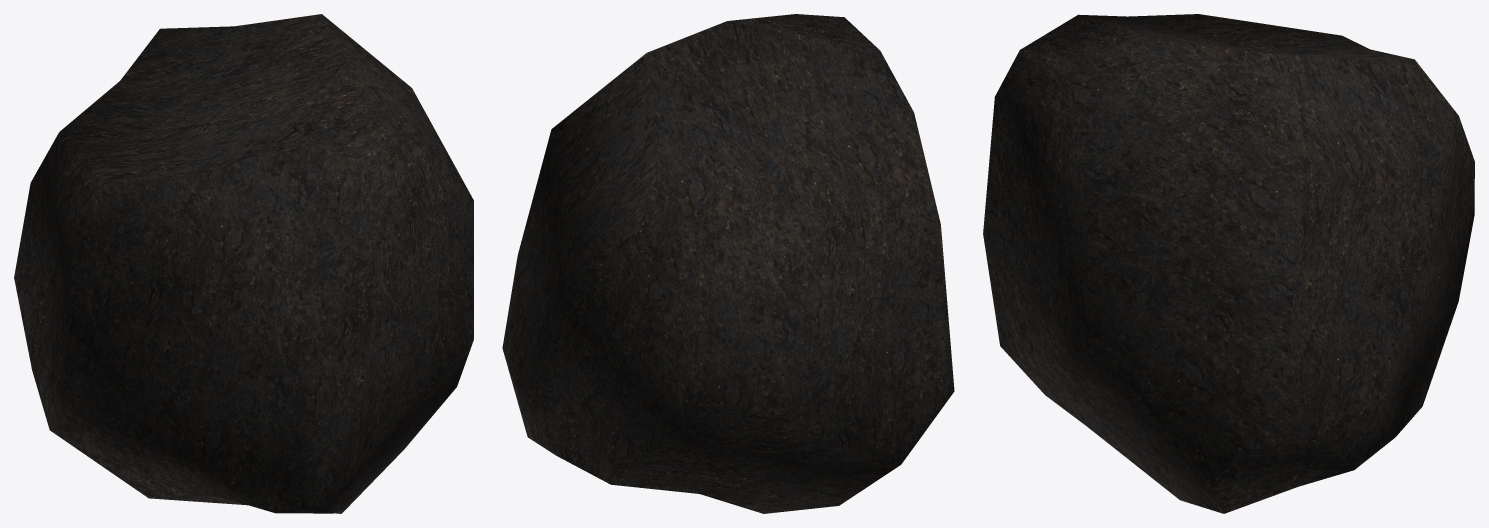
File: rocher04.gltf
The picture shows the model from 3 angles, left to right: view 1: azimuth 30°, elevation 25°; view 2: azimuth 150°, elevation 25°; view 3: azimuth 270°, elevation 25°; orthographic projection. The views are drawn at different scales.
Parts seen in each view (by area): view 1: rock03; view 2: rock03; view 3: rock03.
Part boxes in pixels (x1,y1,x2,y2): rock03: (14, 14, 473, 513); rock03: (502, 14, 954, 513); rock03: (983, 14, 1474, 513).
Bounding box in the file's own units: 4.45 × 4.82 × 4.68.
Materials: 1 (1 with a texture image).
